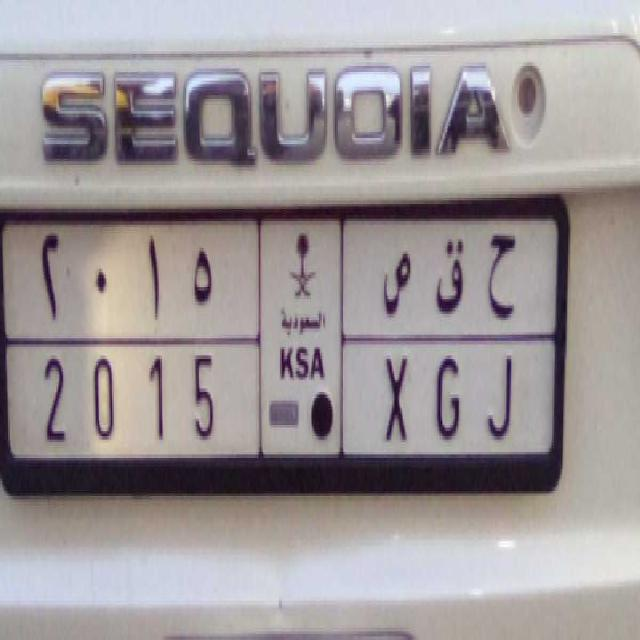license_plate: (27, 332, 540, 468)
